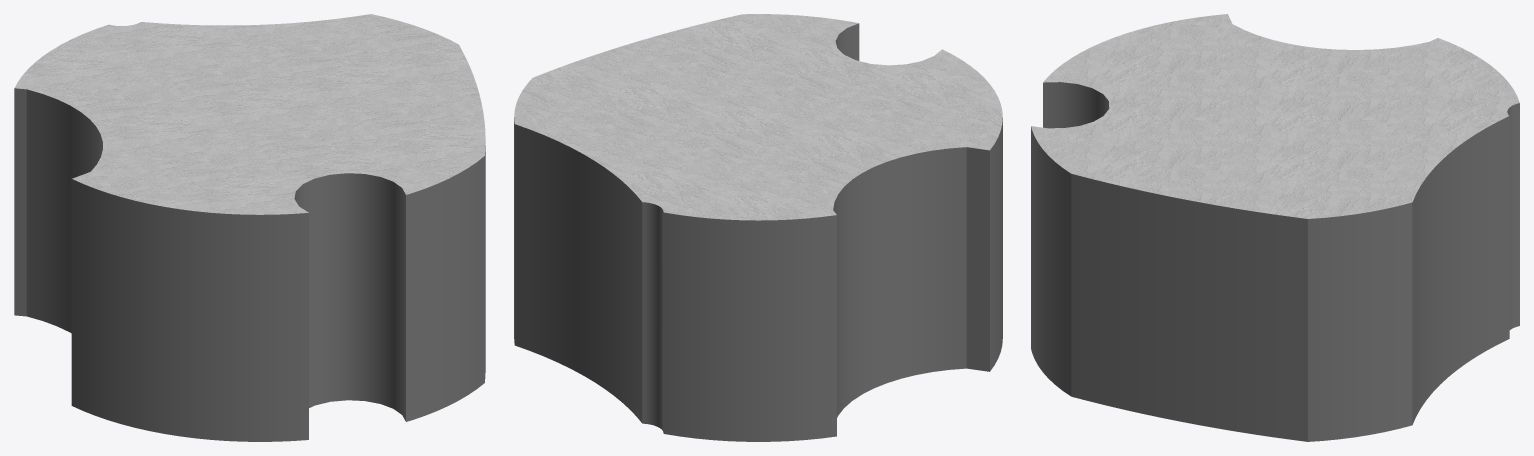
File: asteroid_v1.gltf
3 renders of one model, left to right at view 1: azimuth 30°, elevation 25°; view 2: azimuth 150°, elevation 25°; view 3: azimuth 270°, elevation 25°, orthographic. The views are drawn at different scales.
Visible parts, largest first — view 1: root; view 2: root; view 3: root.
Boxes of the visible parts, left/top/right/bottom form: root: left=14, top=14, right=485, bottom=441; root: left=514, top=14, right=1002, bottom=441; root: left=1031, top=14, right=1519, bottom=441.
Size of the model in its own units: 1.97 by 1 by 1.99.
Materials: 2 (1 with a texture image).
